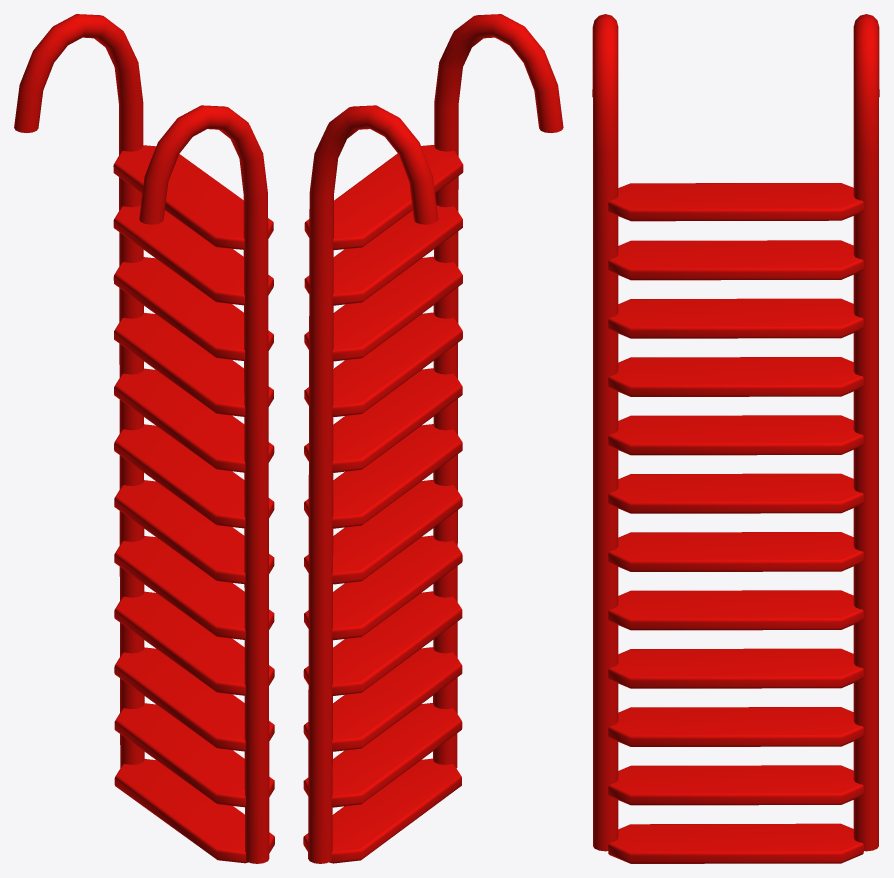
The model's file is 3x1_vertical.fbx.
The picture shows the model from 3 angles, left to right: view 1: azimuth 30°, elevation 25°; view 2: azimuth 150°, elevation 25°; view 3: azimuth 270°, elevation 25°; orthographic projection. The views are drawn at different scales.
Parts seen in each view (by area): view 1: BezierCurve; view 2: BezierCurve; view 3: BezierCurve.
Boxes of the visible parts, x1,y1,x2,y2 form: BezierCurve: (14, 14, 274, 863); BezierCurve: (303, 14, 563, 863); BezierCurve: (592, 14, 879, 863).
Size of the model in its own units: 69.12 by 347 by 112.
